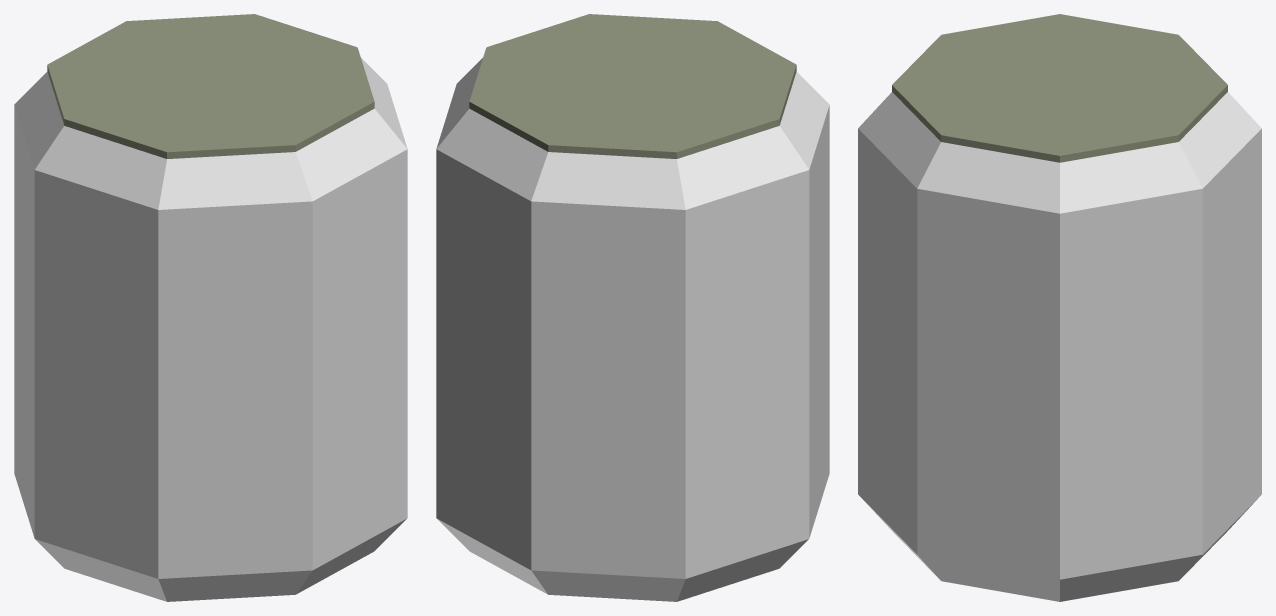
File: banka.fbx
3 renders of one model, left to right at view 1: azimuth 30°, elevation 25°; view 2: azimuth 150°, elevation 25°; view 3: azimuth 270°, elevation 25°, orthographic.
Visible parts, largest first — view 1: Cylinder.004; view 2: Cylinder.004; view 3: Cylinder.004.
Boxes of the visible parts, x1,y1,x2,y2 form: Cylinder.004: (14,14,407,601); Cylinder.004: (436,14,829,601); Cylinder.004: (858,14,1261,601).
Size of the model in its own units: 200 by 244 by 200.
